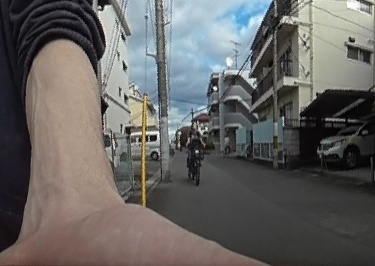person: (186, 130, 204, 178)
